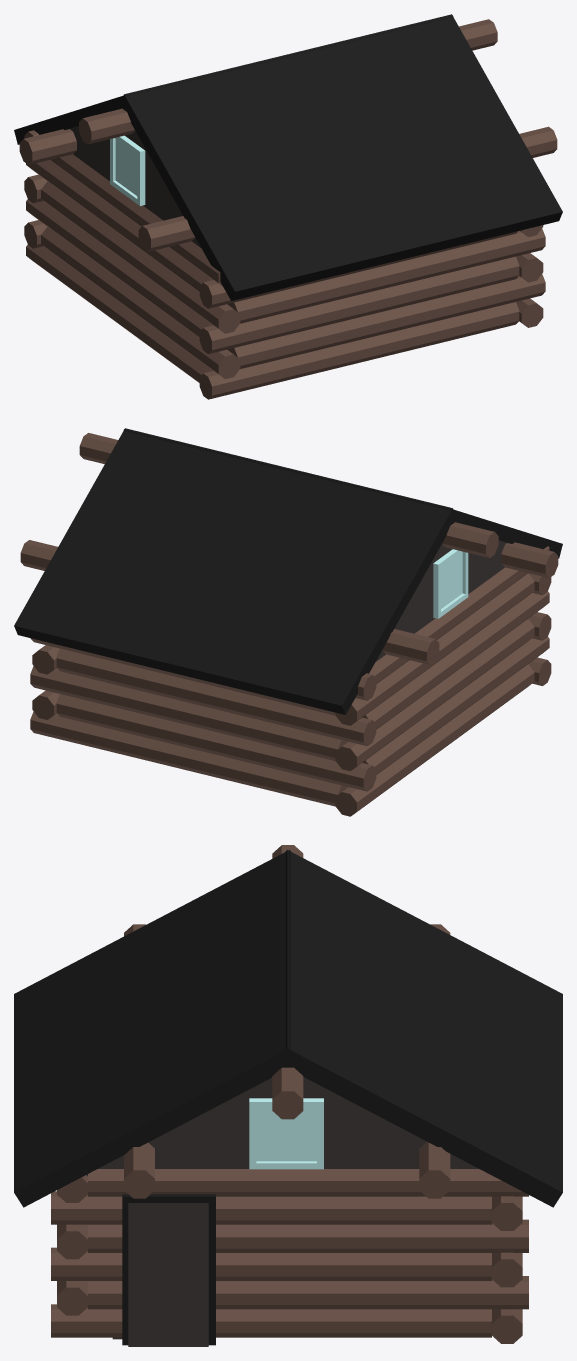
The model's file is AlarmLight 1.fbx.
3 renders of one model, top to bottom at view 1: azimuth 30°, elevation 25°; view 2: azimuth 150°, elevation 25°; view 3: azimuth 270°, elevation 25°, orthographic. The views are drawn at different scales.
Visible parts, largest first — view 1: Log Cabin; view 2: Log Cabin; view 3: Log Cabin.
Boxes of the visible parts, x1=… form: Log Cabin: x1=14, y1=14, x2=562, y2=399; Log Cabin: x1=14, y1=428, x2=562, y2=816; Log Cabin: x1=14, y1=845, x2=562, y2=1346.
Size of the model in its own units: 1565 by 912 by 1475.
